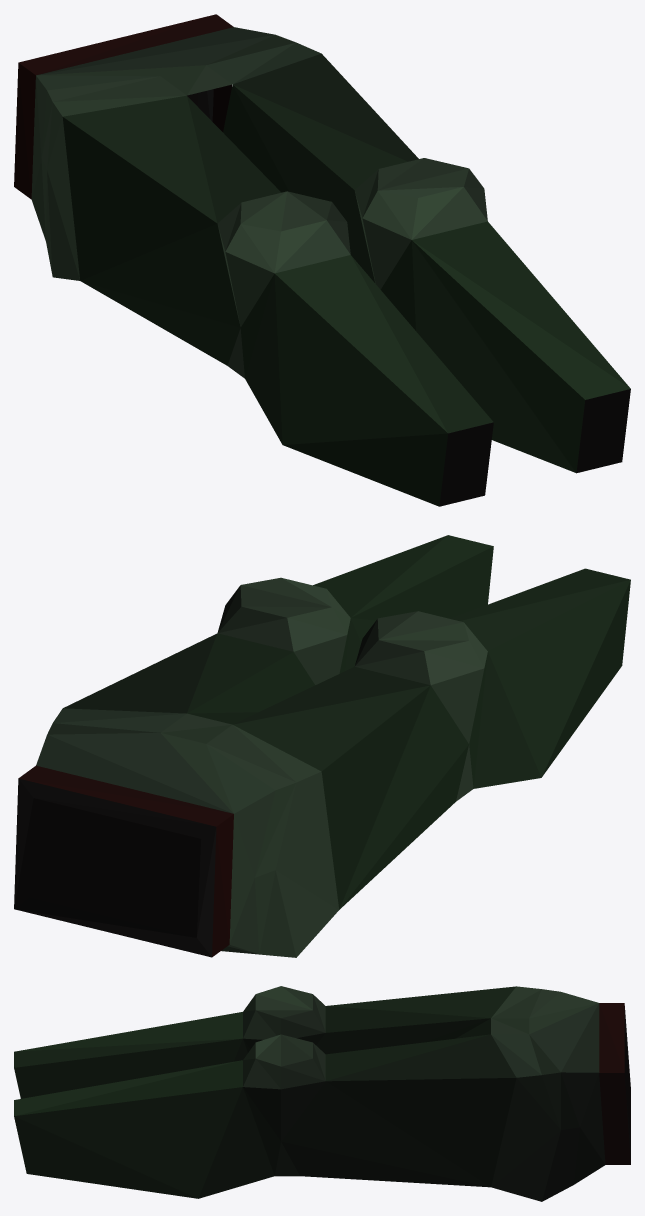
The model's file is adamant-platelegs.obj.
3 views of the same model, one above another, from view 1: azimuth 30°, elevation 25°; view 2: azimuth 150°, elevation 25°; view 3: azimuth 270°, elevation 25° (orthographic). The views are drawn at different scales.
Parts seen in each view (by area): view 1: Item Adamant platelegs 2026-09-24_18-15-54; view 2: Item Adamant platelegs 2026-09-24_18-15-54; view 3: Item Adamant platelegs 2026-09-24_18-15-54.
Boxes of the visible parts, box(x1,y1,x2,y2) form: Item Adamant platelegs 2026-09-24_18-15-54: box(14, 14, 630, 506); Item Adamant platelegs 2026-09-24_18-15-54: box(14, 535, 630, 957); Item Adamant platelegs 2026-09-24_18-15-54: box(14, 986, 630, 1201).
Size of the model in its own units: 34 by 24 by 97.
